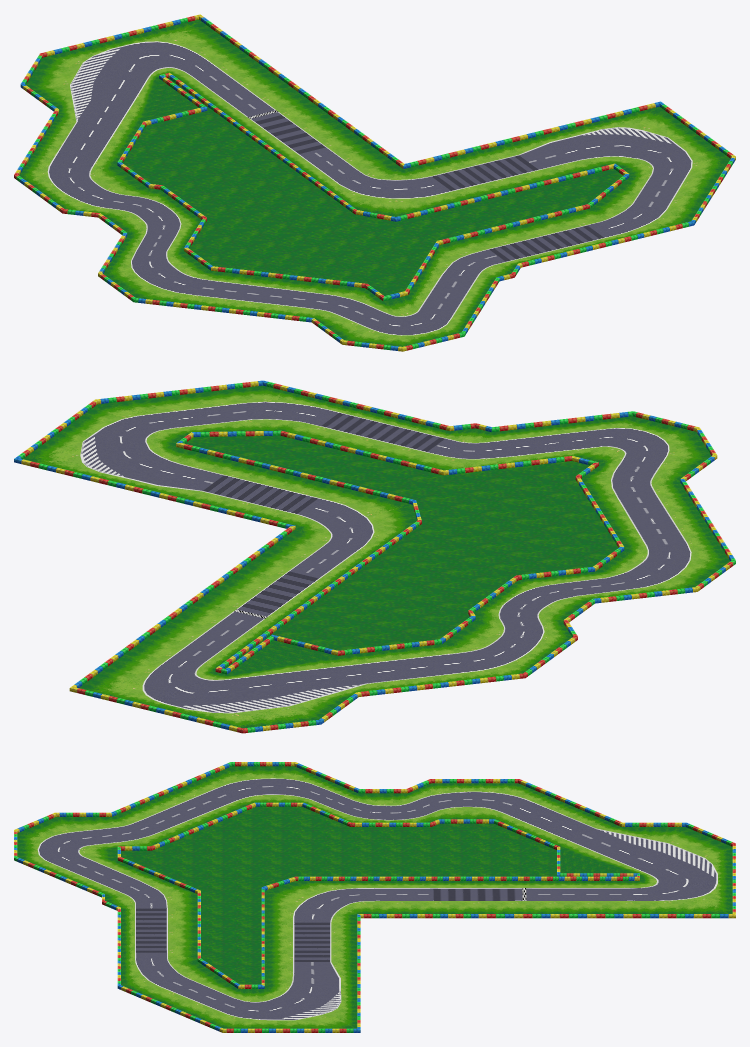
File: Circuit.obj
3 views of the same model, one above another, from view 1: azimuth 30°, elevation 25°; view 2: azimuth 150°, elevation 25°; view 3: azimuth 270°, elevation 25° (orthographic). The views are drawn at different scales.
Visible parts, largest first — view 1: course; view 2: course; view 3: course.
Boxes of the visible parts, x1,y1,x2,y2 form: course: (14,14,735,351); course: (14,380,735,733); course: (14,762,735,1032).
Bounding box in the file's own units: 30.75 × 0.155 × 35.01.
